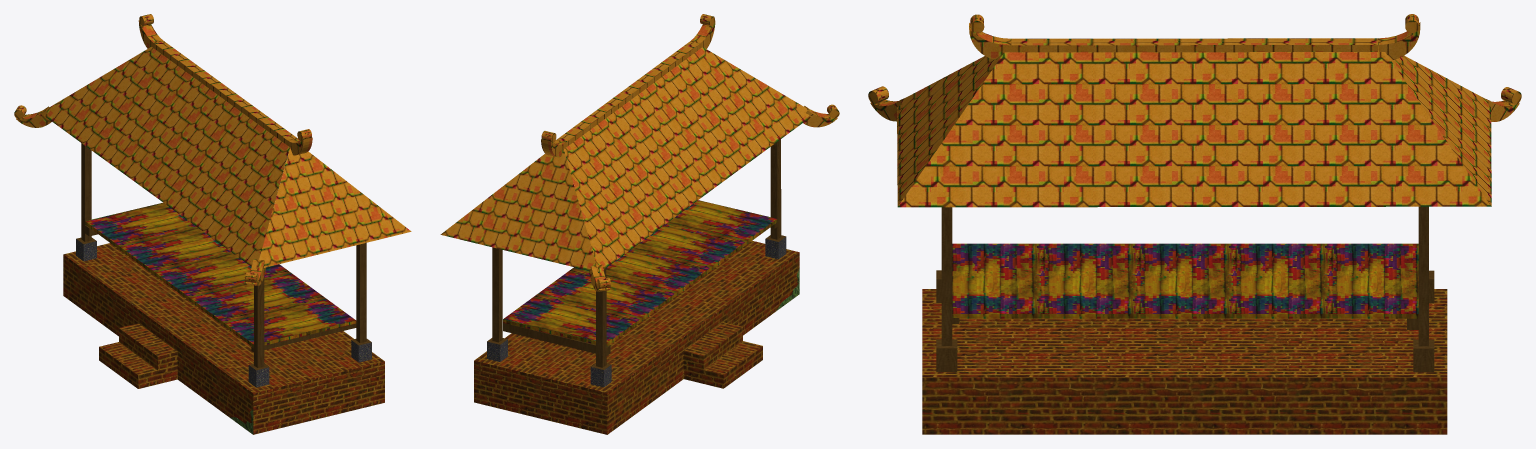
The model's file is seat.glb.
3 views of the same model, side by side, from view 1: azimuth 30°, elevation 25°; view 2: azimuth 150°, elevation 25°; view 3: azimuth 270°, elevation 25° (orthographic). The views are drawn at different scales.
Parts seen in each view (by area): view 1: bale, 20287, 21129; view 2: bale, 20287, 21129.001; view 3: bale, 20288, 21129.002, 21129.003.
Boxes of the visible parts, bbox=[...] form: bale: bbox=[63, 41, 411, 434]; 20287: bbox=[40, 47, 289, 268]; 21129: bbox=[16, 106, 51, 127]; bale: bbox=[440, 41, 839, 434]; 20287: bbox=[564, 47, 813, 272]; 21129.001: bbox=[803, 106, 837, 127]; bale: bbox=[868, 38, 1491, 434]; 20288: bbox=[898, 45, 1491, 207]; 21129.002: bbox=[969, 23, 1011, 59]; 21129.003: bbox=[1378, 22, 1420, 59].
Bounding box in the file's own units: 144 × 198 × 311.
Materials: 168 (159 with a texture image).
